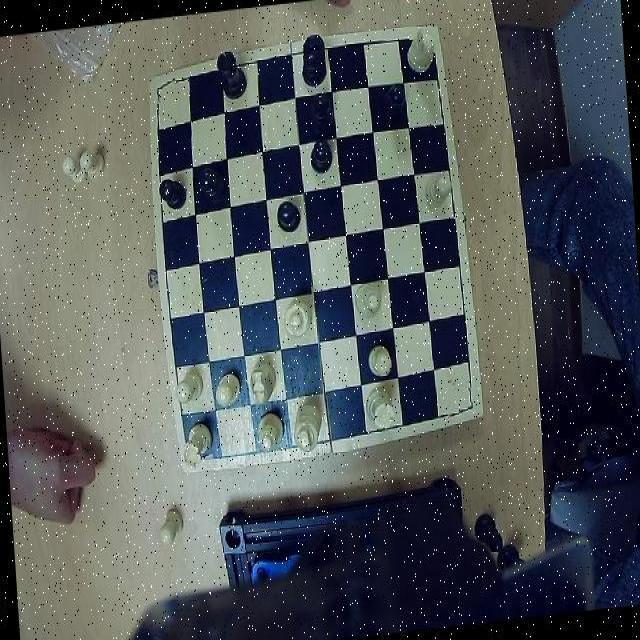chess-table-corners: (180, 436, 213, 471), (446, 387, 480, 420), (409, 26, 438, 56), (152, 74, 178, 102)
